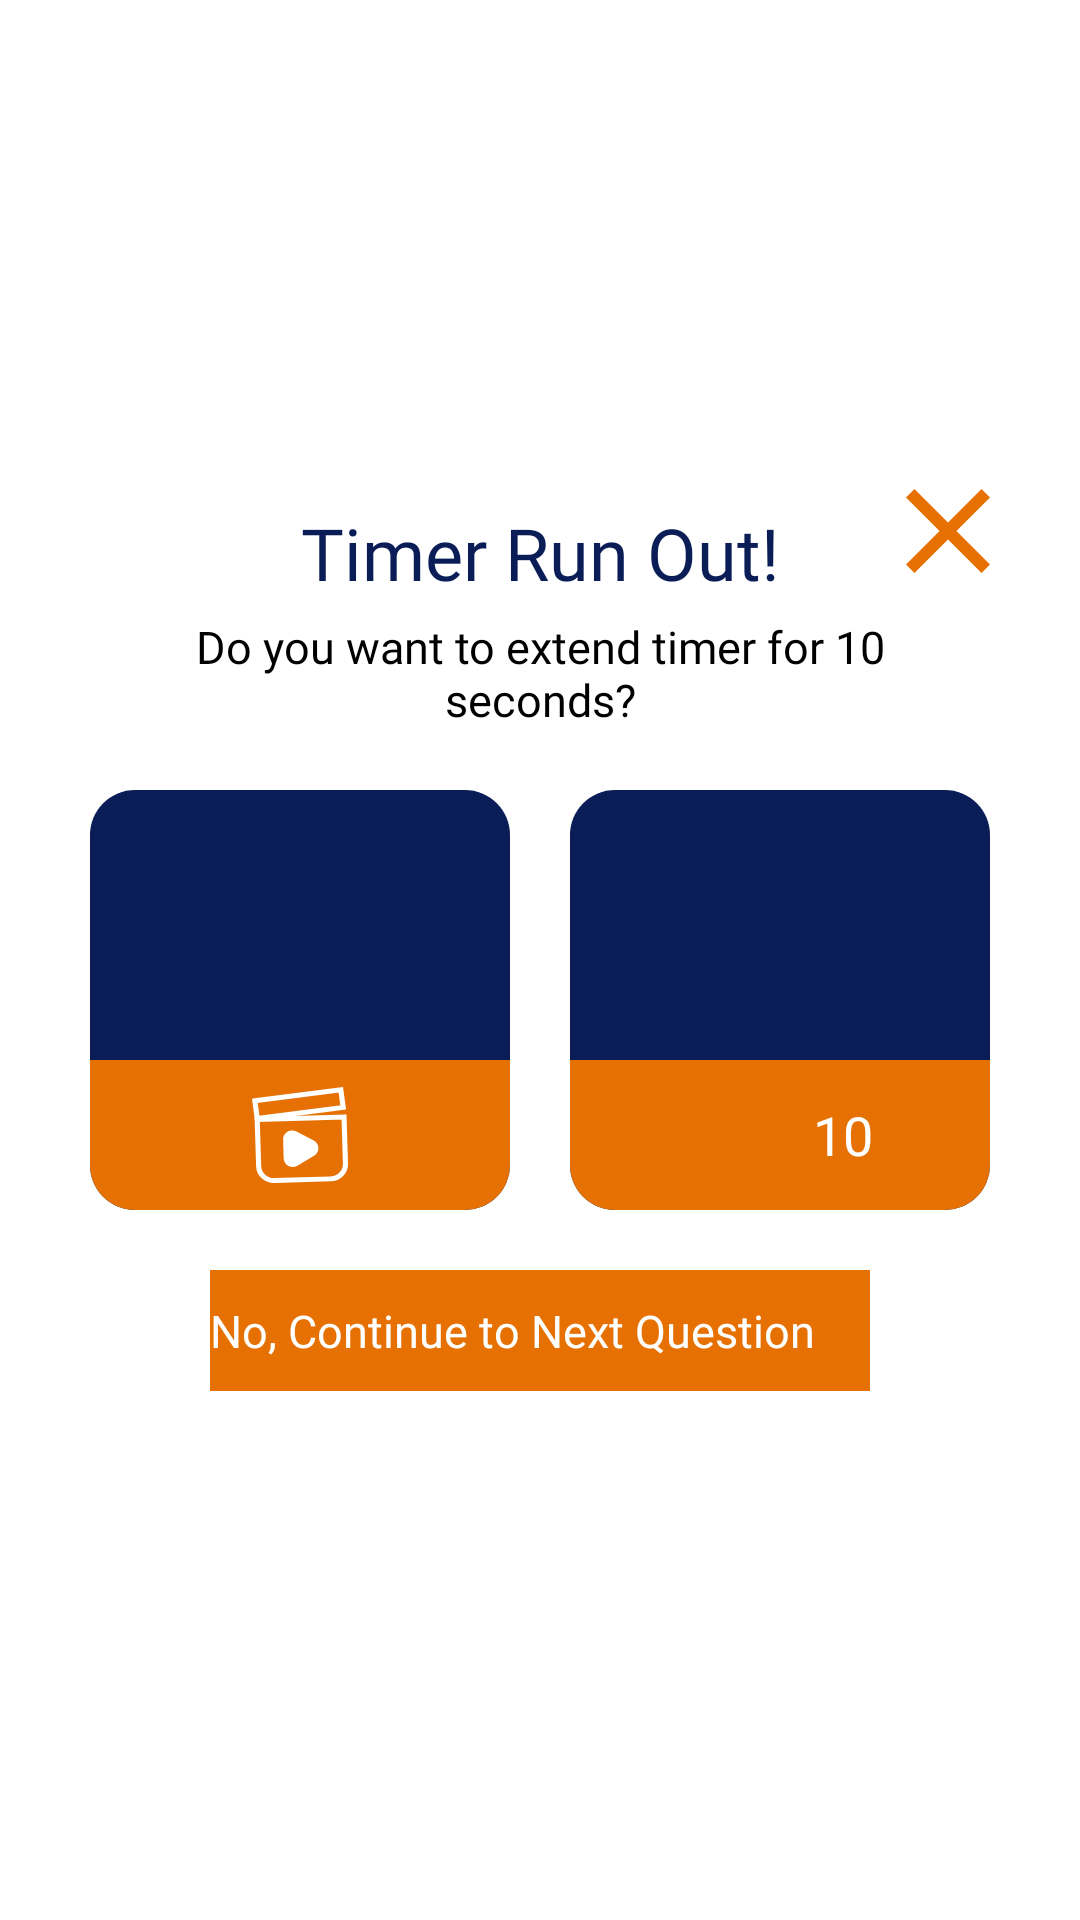

Where to tap for icons on this 1080px x 1920px app screen, as [x,y]:
close: [948,531]
video ad: [300,1135]
